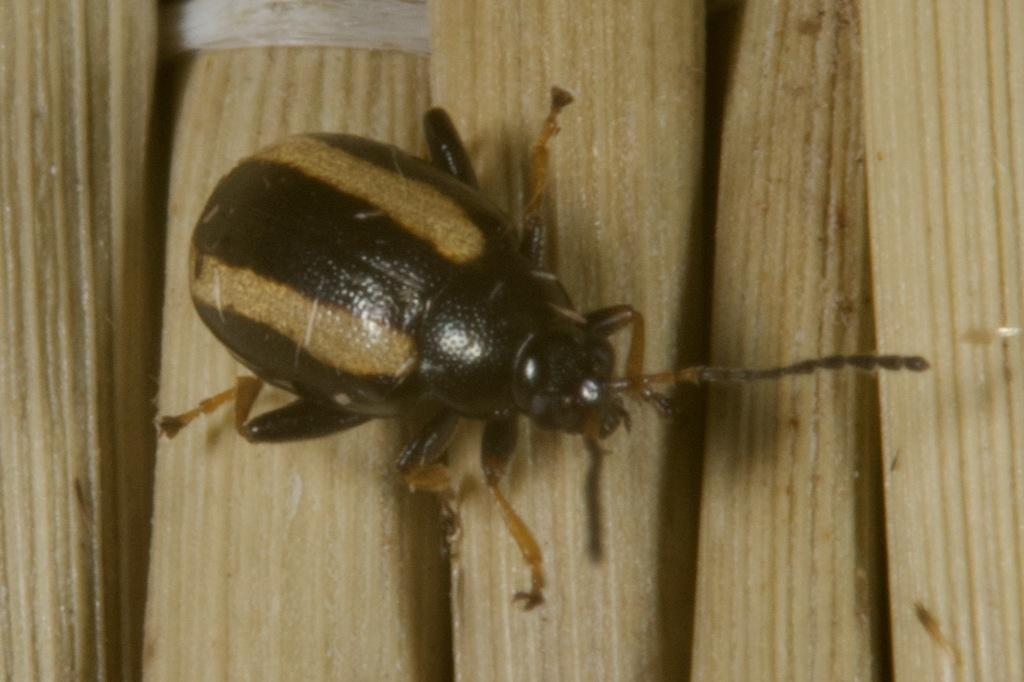flea_beetle: (54, 0, 977, 667)
